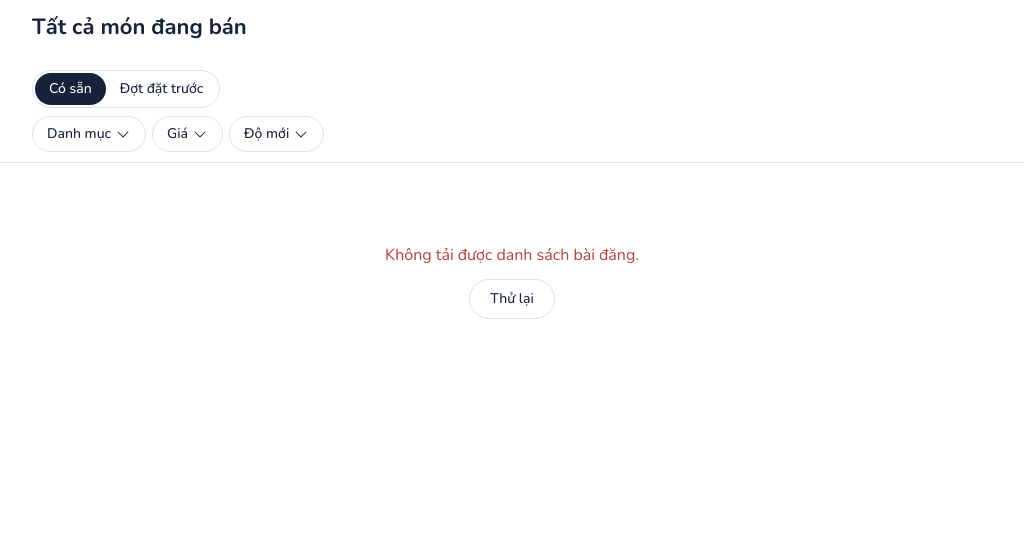
Scenario: ListingBrowser › offers a retry when loading fails
The width and height of the screenshot is (1024, 535).
Expected: the message shows "Không tải được danh sách bài đăng.", [385, 244, 639, 266]
Click the button "Thử lại".
click(512, 299)  # box [469, 279, 555, 319]
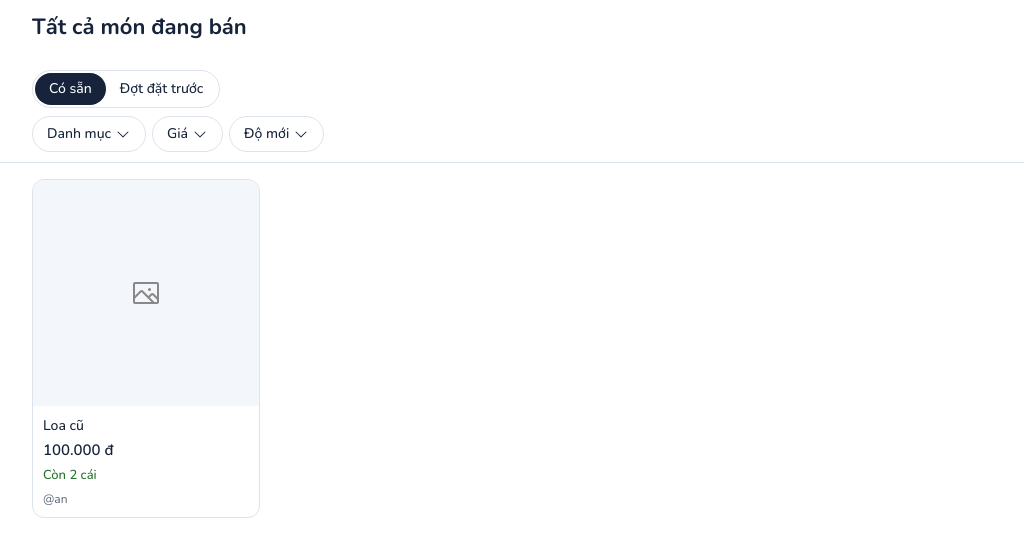
Expected: the heading "Loa cũ" is shown, [43, 416, 84, 435]
